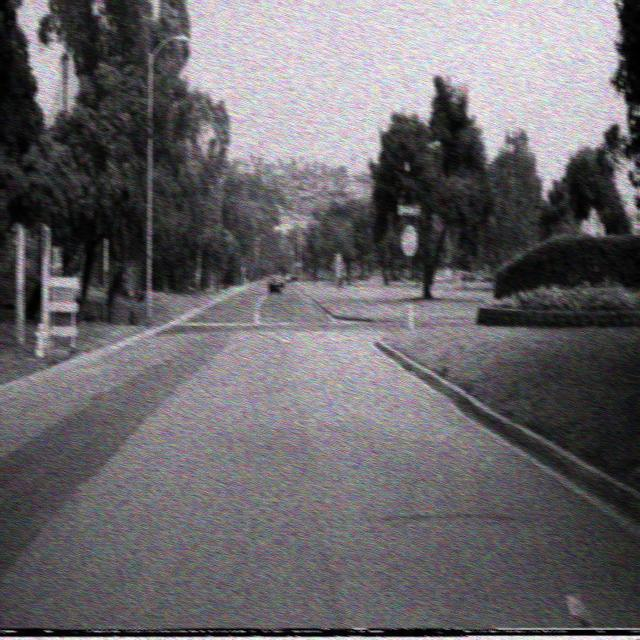stop: (400, 222, 418, 256)
